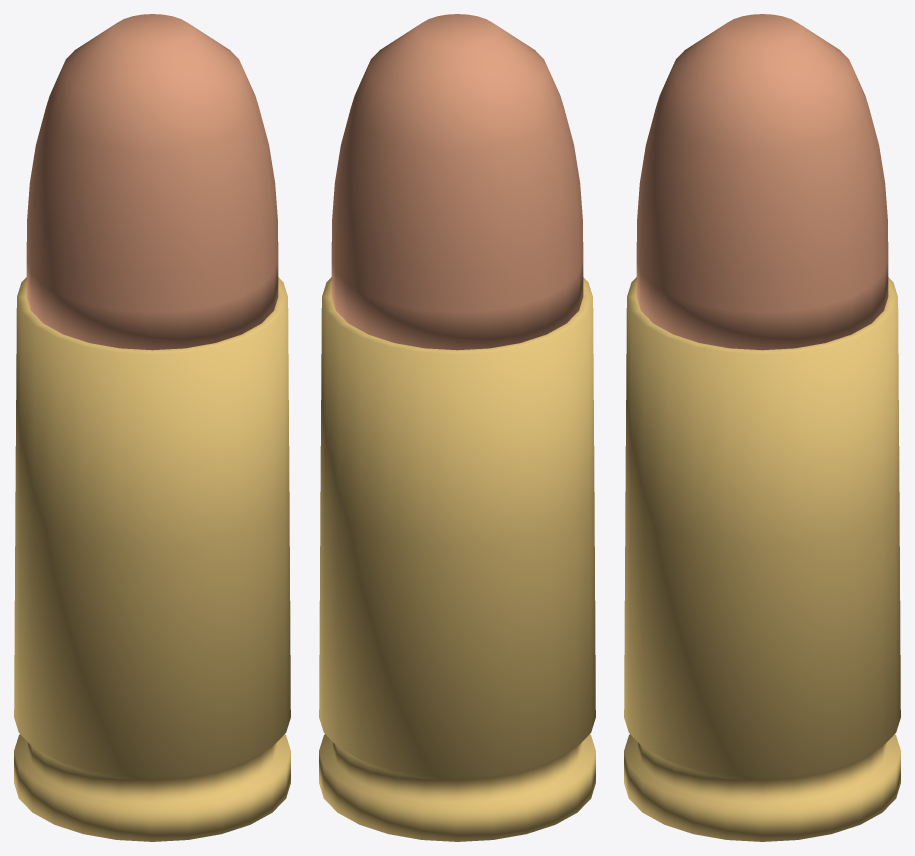
The model's file is 9x19_std.glb.
3 renders of one model, left to right at view 1: azimuth 30°, elevation 25°; view 2: azimuth 150°, elevation 25°; view 3: azimuth 270°, elevation 25°, orthographic.
Parts seen in each view (by area): view 1: vaina, bala; view 2: vaina, bala; view 3: vaina, bala.
Boxes of the visible parts, x1,y1,x2,y2 form: vaina: (14,277,290,841); bala: (26,14,278,350); vaina: (319,277,595,841); bala: (331,14,583,350); vaina: (624,277,900,841); bala: (636,14,888,350).
Bounding box in the file's own units: 0.0099 × 0.0297 × 0.0099.
